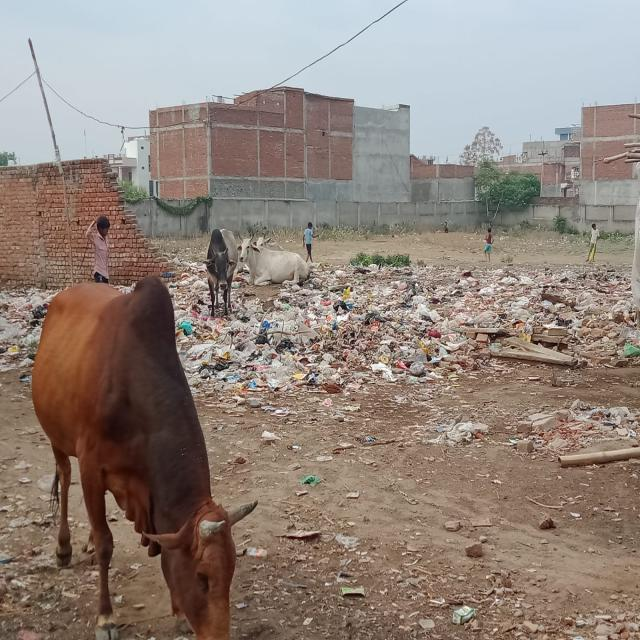Garbage: (184, 283, 613, 389)
